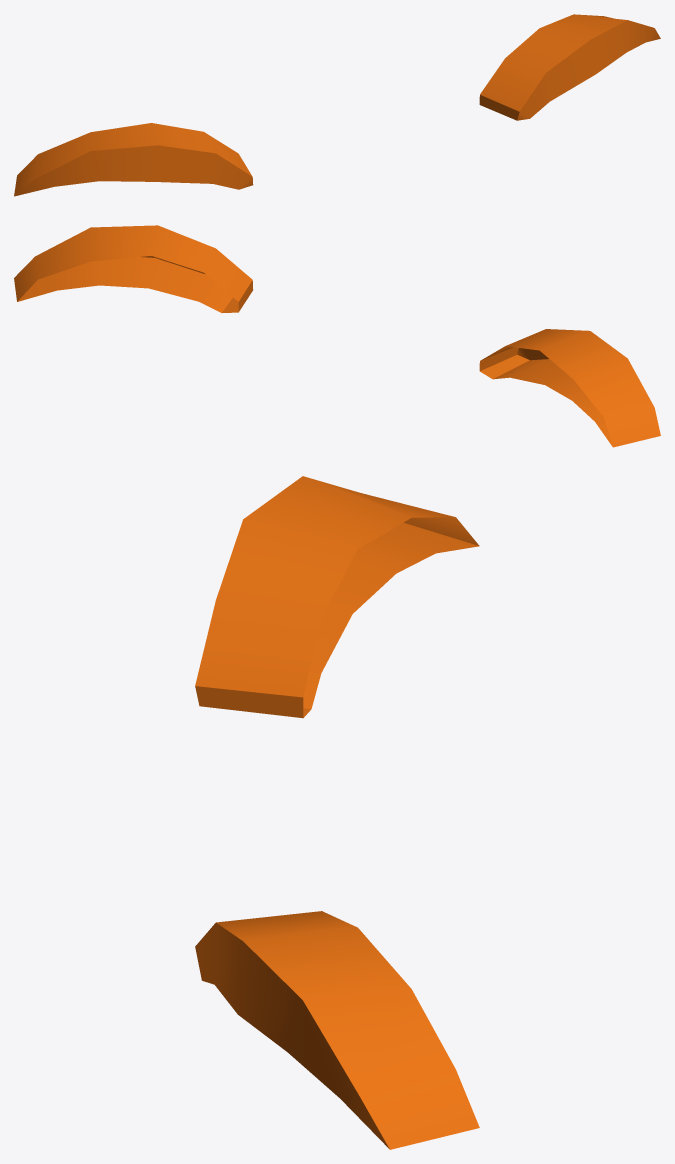
File: Brow_Orange_1.fbx
3 views of the same model, one above another, from view 1: azimuth 30°, elevation 25°; view 2: azimuth 150°, elevation 25°; view 3: azimuth 270°, elevation 25° (orthographic). The views are drawn at different scales.
Parts seen in each view (by area): view 1: Brow_Orange_1; view 2: Brow_Orange_1; view 3: Brow_Orange_1.
Part boxes in pixels (x1,y1,x2,y2): Brow_Orange_1: (14, 14, 660, 196); Brow_Orange_1: (14, 225, 660, 447); Brow_Orange_1: (195, 476, 479, 1149).
Size of the model in its own units: 33.06 by 2.71 by 6.3.
